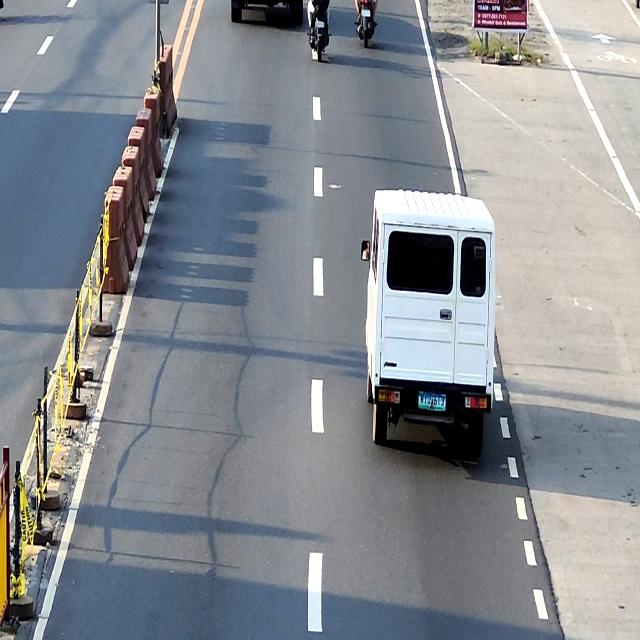Car: (361, 187, 496, 458)
License-Plate: (418, 392, 446, 412), (362, 9, 371, 18), (314, 21, 325, 28)
Motorcycle: (308, 0, 329, 62), (355, 0, 377, 48)
